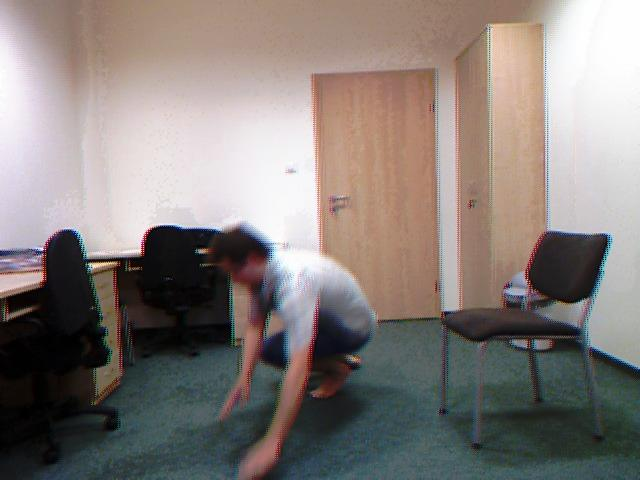fall: (192, 220, 381, 479)
